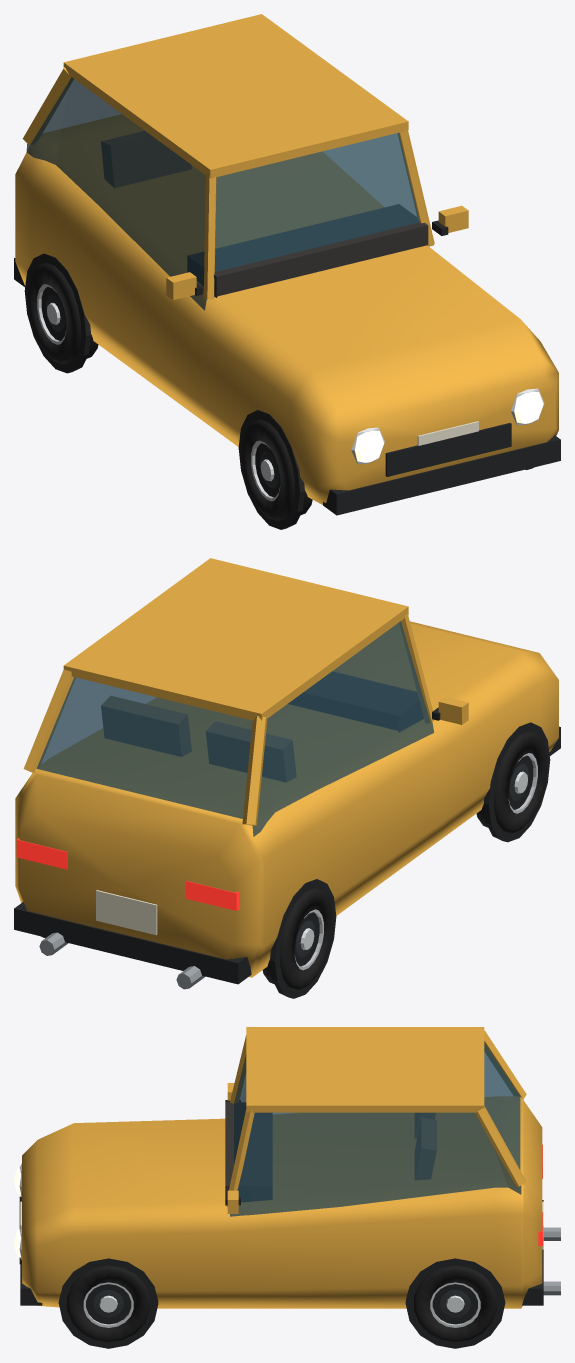
The model's file is acorn-kei.glb.
3 views of the same model, one above another, from view 1: azimuth 30°, elevation 25°; view 2: azimuth 150°, elevation 25°; view 3: azimuth 270°, elevation 25° (orthographic). The views are drawn at different scales.
Parts seen in each view (by area): view 1: body, wheel_FR, wheel_RR, headlight_L, headlight_R, plate_F; view 2: body, wheel_FR, wheel_RR, plate_R, taillight_R, taillight_L; view 3: body, wheel_RL, wheel_FL.
Part boxes in pixels (box(x1,y1,x2,y2)): body: box(14, 14, 560, 529); wheel_FR: box(241, 419, 312, 520); wheel_RR: box(27, 262, 98, 364); headlight_L: box(511, 388, 544, 425); headlight_R: box(351, 427, 384, 464); plate_F: box(417, 421, 478, 445); body: box(14, 558, 560, 998); wheel_FR: box(476, 731, 547, 833); wheel_RR: box(262, 888, 333, 989); plate_R: box(96, 890, 157, 935); taillight_R: box(186, 881, 239, 910); taillight_L: box(16, 838, 67, 869); body: box(19, 1027, 543, 1348); wheel_RL: box(414, 1265, 496, 1342); wheel_FL: box(67, 1265, 149, 1342).
Bounding box in the file's own units: 1.76 × 1.63 × 3.47.
